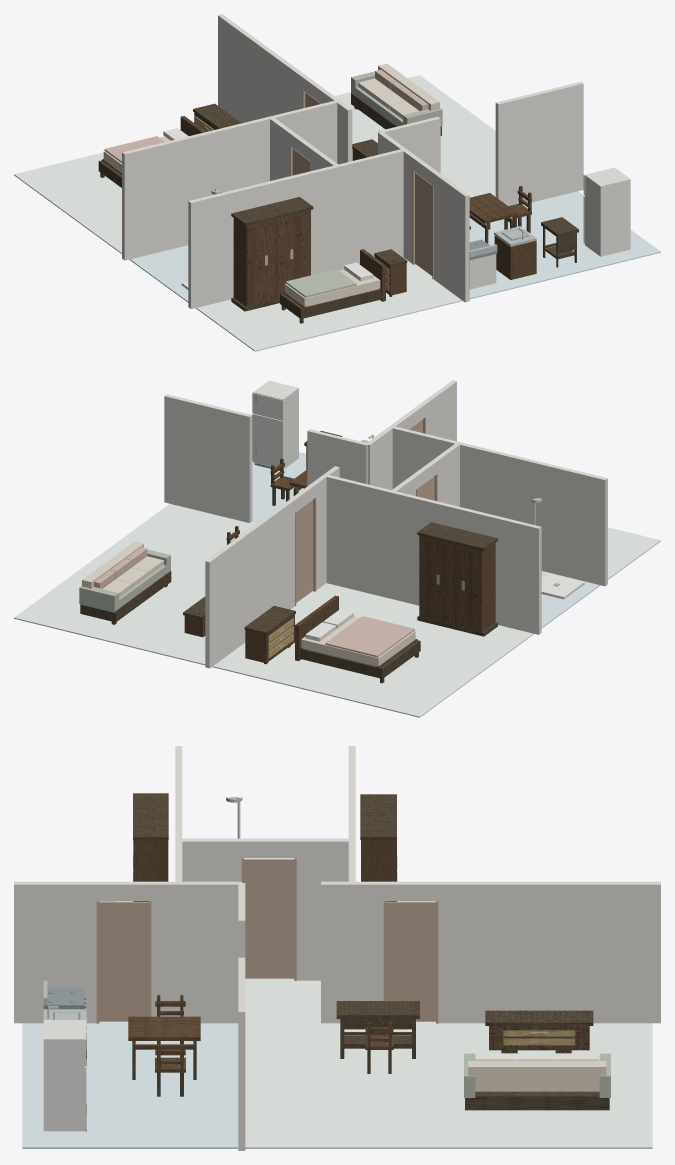
3 views of the same model, one above another, from view 1: azimuth 30°, elevation 25°; view 2: azimuth 150°, elevation 25°; view 3: azimuth 270°, elevation 25° (orthographic). The views are drawn at different scales.
Visible parts, largest first — view 1: H21_WALL_07, H21_WALL_06, H21_WALL_00, H21_FLOOR_05_QUARTO_2, H21_WALL_02, H21_FLOOR_01_COZINHA_JANTAR, H21_FLOOR_00_SALA, H21_FLOOR_02_QUARTO_1, H21_WALL_05, H21_FURN_00_fridge__05__gabinete, H21_FURN_18_wardrobe__03__porta_direita, H21_FURN_18_wardrobe__04__porta_esquerda (+20 smaller); view 2: H21_WALL_06, H21_WALL_07, H21_FLOOR_02_QUARTO_1, H21_FLOOR_00_SALA, H21_WALL_00, H21_WALL_02, H21_WALL_01, H21_FURN_15_wardrobe__03__porta_direita, H21_FURN_15_wardrobe__04__porta_esquerda, H21_FURN_13_bed_double__08__cobertor, H21_FURN_15_wardrobe__06__corpo, H21_FLOOR_01_COZINHA_JANTAR (+21 smaller); view 3: H21_FLOOR_00_SALA, H21_WALL_02, H21_FLOOR_01_COZINHA_JANTAR, H21_WALL_04, H21_WALL_05, H21_WALL_03, H21_DOOR_02_LEAF, H21_DOOR_01_LEAF, H21_DOOR_00_LEAF, H21_WALL_08, H21_FURN_00_fridge__05__gabinete, H21_FURN_01_sofa_3p__10__encosto (+20 smaller).
Boxes of the visible parts, x1,y1,x2,y2 form: H21_WALL_07: (188, 149, 403, 308); H21_WALL_06: (122, 100, 337, 260); H21_WALL_00: (495, 82, 583, 205); H21_FLOOR_05_QUARTO_2: (195, 257, 462, 351); H21_WALL_02: (218, 14, 307, 123); H21_FLOOR_01_COZINHA_JANTAR: (469, 191, 660, 299); H21_FLOOR_00_SALA: (334, 75, 495, 197); H21_FLOOR_02_QUARTO_1: (14, 152, 121, 253); H21_WALL_05: (433, 171, 469, 302); H21_FURN_00_fridge__05__gabinete: (585, 167, 630, 256); H21_FURN_18_wardrobe__03__porta_direita: (247, 221, 278, 305); H21_FURN_18_wardrobe__04__porta_esquerda: (279, 213, 310, 296); H21_WALL_06: (326, 474, 541, 634); H21_WALL_07: (392, 426, 607, 586); H21_FLOOR_02_QUARTO_1: (212, 583, 533, 717); H21_FLOOR_00_SALA: (14, 504, 256, 665); H21_WALL_00: (164, 394, 252, 522); H21_WALL_02: (205, 498, 295, 668); H21_WALL_01: (307, 429, 368, 485); H21_FURN_15_wardrobe__03__porta_direita: (419, 538, 450, 622); H21_FURN_15_wardrobe__04__porta_esquerda: (451, 546, 481, 630); H21_FURN_13_bed_double__08__cobertor: (325, 616, 414, 657); H21_FURN_15_wardrobe__06__corpo: (419, 535, 495, 632); H21_FLOOR_01_COZINHA_JANTAR: (251, 452, 306, 523); H21_FLOOR_00_SALA: (245, 1022, 652, 1148); H21_WALL_02: (437, 881, 660, 1023); H21_FLOOR_01_COZINHA_JANTAR: (22, 1022, 238, 1148); H21_WALL_04: (150, 881, 241, 1023); H21_WALL_05: (14, 881, 97, 1023); H21_WALL_03: (321, 881, 384, 1023); H21_DOOR_02_LEAF: (244, 859, 294, 978); H21_DOOR_01_LEAF: (99, 901, 148, 1021); H21_DOOR_00_LEAF: (386, 901, 435, 1021); H21_WALL_08: (295, 838, 348, 980); H21_FURN_00_fridge__05__gabinete: (43, 1020, 84, 1131); H21_FURN_01_sofa_3p__10__encosto: (468, 1061, 606, 1091).
Size of the model in its own units: 9.98 by 2.46 by 10.26.
18 materials, 3 textured.
